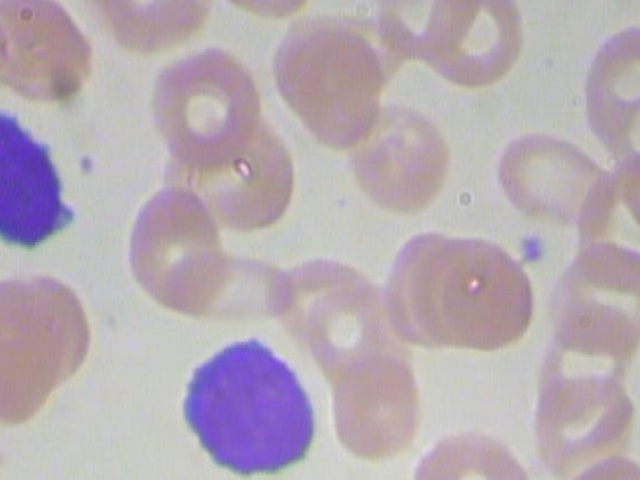Platelets: (511, 227, 550, 270)
RBC: (263, 13, 393, 163), (130, 39, 264, 174), (333, 99, 466, 216), (123, 178, 230, 314), (430, 227, 543, 355), (319, 338, 431, 466), (527, 364, 640, 477), (0, 269, 76, 428), (408, 424, 541, 480), (544, 448, 640, 480)
WBC: (169, 320, 321, 480), (0, 98, 74, 253)
